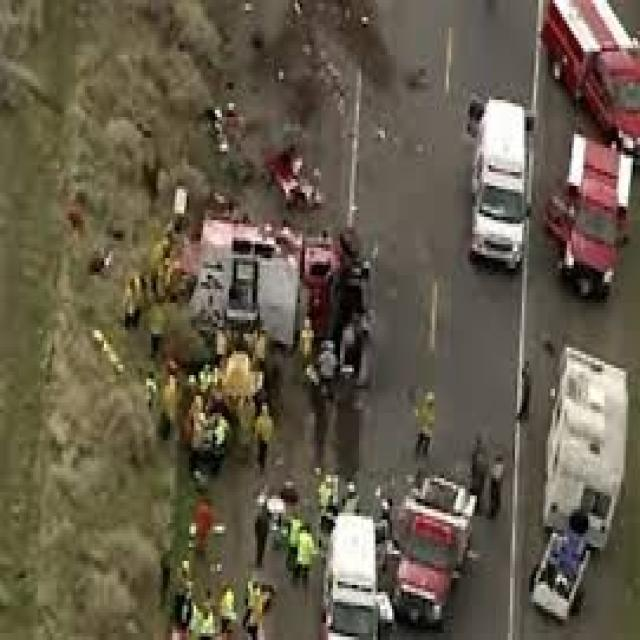traffic_incident: (106, 107, 414, 509)
